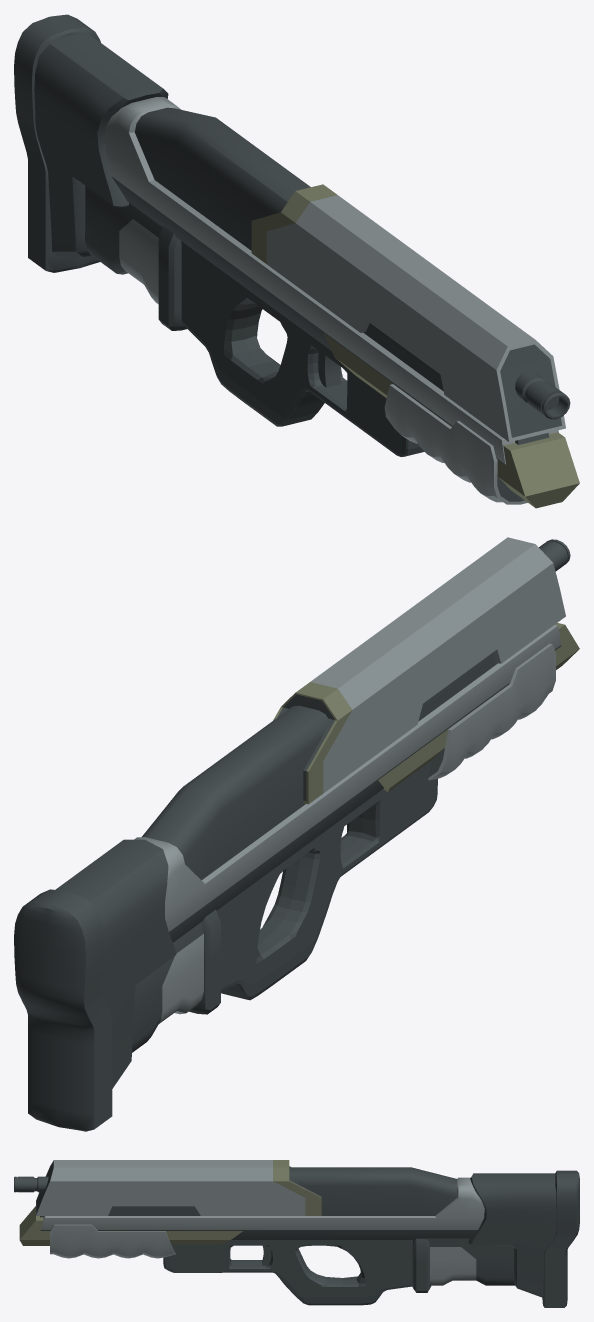
The model's file is rifle.glb.
3 views of the same model, one above another, from view 1: azimuth 30°, elevation 25°; view 2: azimuth 150°, elevation 25°; view 3: azimuth 270°, elevation 25° (orthographic). The views are drawn at different scales.
Parts seen in each view (by area): view 1: rifle; view 2: rifle; view 3: rifle.
Part boxes in pixels (x1,y1,x2,y2): rifle: (14,14,579,508); rifle: (14,537,579,1131); rifle: (14,1160,579,1307).
Bounding box in the file's own units: 0.0636 × 0.2101 × 0.78.
